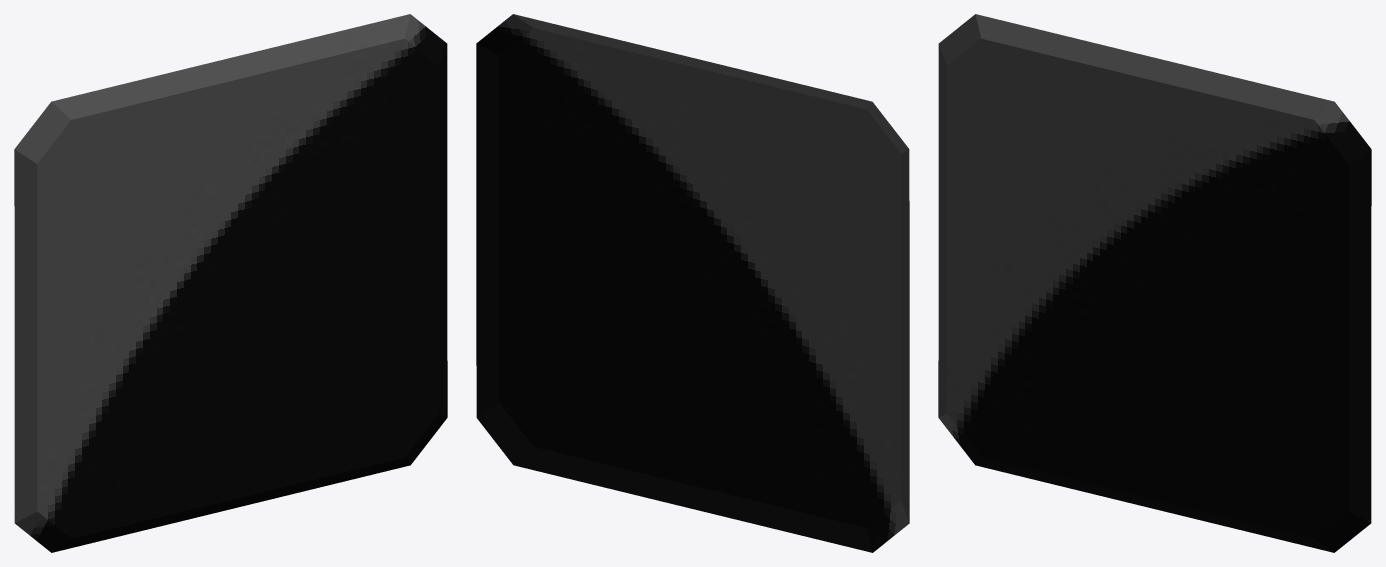
The model's file is tp_xpblz.FBX.
3 renders of one model, left to right at view 1: azimuth 30°, elevation 25°; view 2: azimuth 150°, elevation 25°; view 3: azimuth 330°, elevation 25°, orthographic.
Parts seen in each view (by area): view 1: tp_xpblz; view 2: tp_xpblz; view 3: tp_xpblz.
Boxes of the visible parts, x1=… form: tp_xpblz: x1=14, y1=14, x2=447, y2=552; tp_xpblz: x1=476, y1=14, x2=909, y2=552; tp_xpblz: x1=938, y1=14, x2=1371, y2=552.
Bounding box in the file's own units: 0.4788 × 0.4769 × 0.0144.
1 material, 1 textured.
